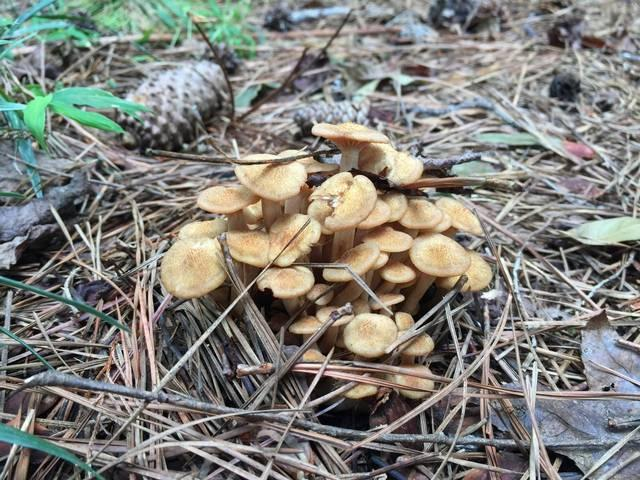Edible Mushroom: (159, 119, 493, 405)
